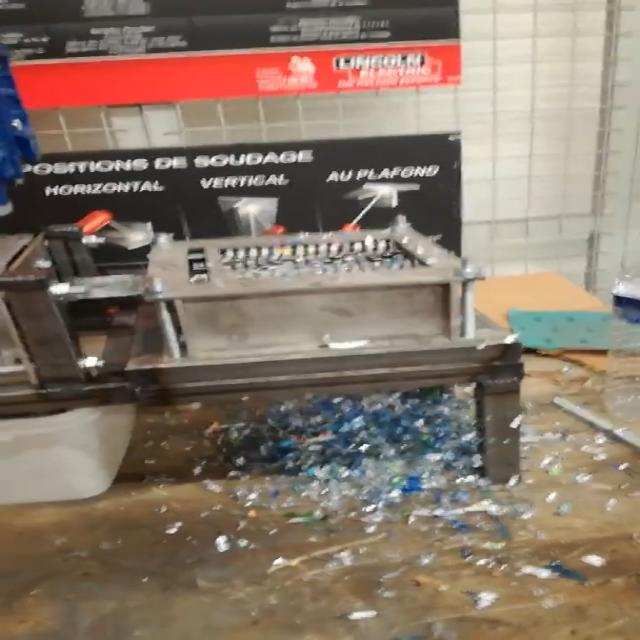Broyeur: (150, 231, 468, 301)
